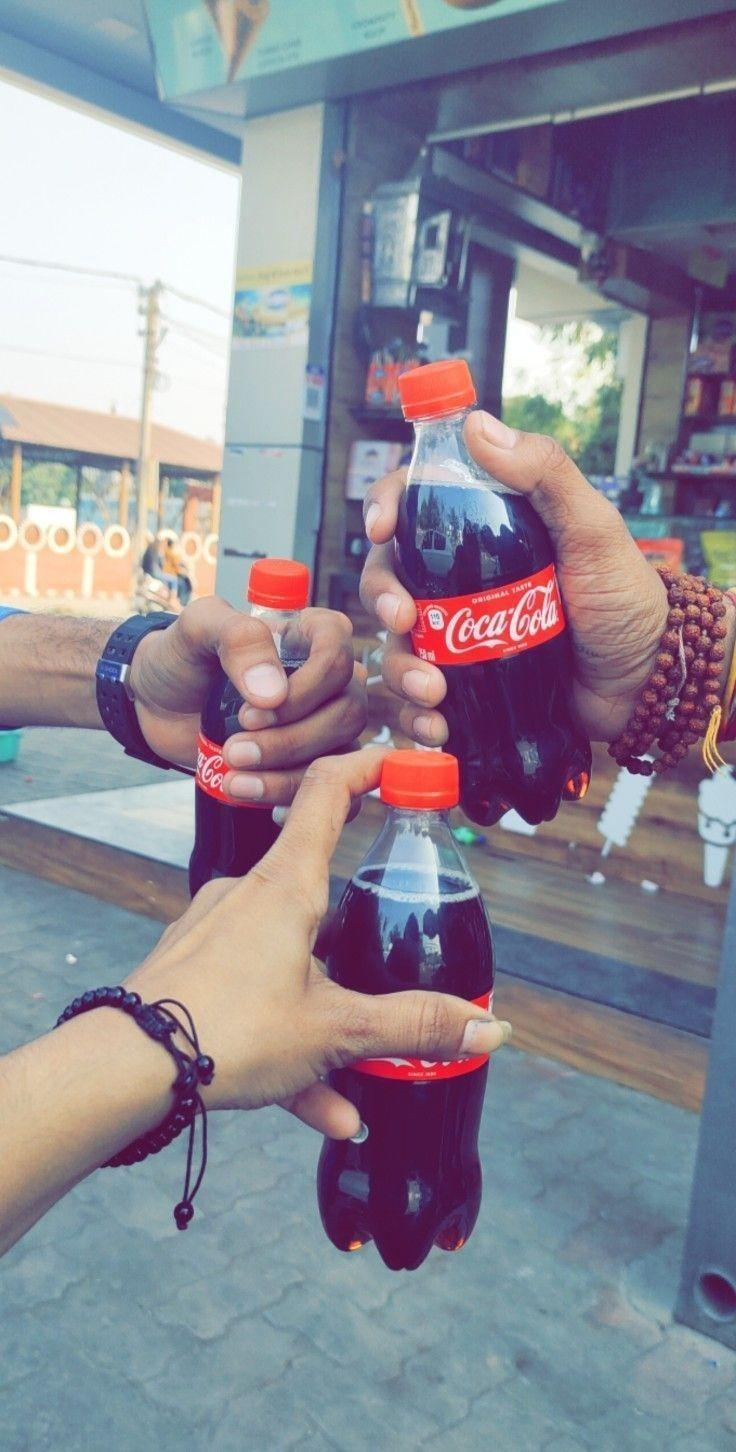bottle-plastic: (383, 352, 602, 829), (306, 744, 498, 1272), (182, 554, 335, 878)
